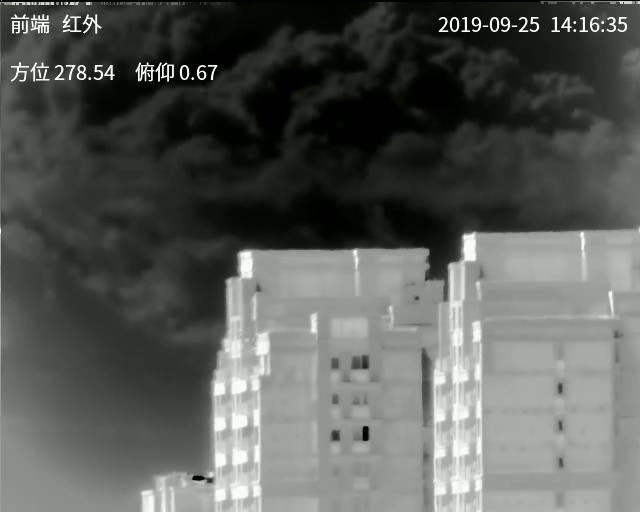uav: (239, 329, 260, 353)
